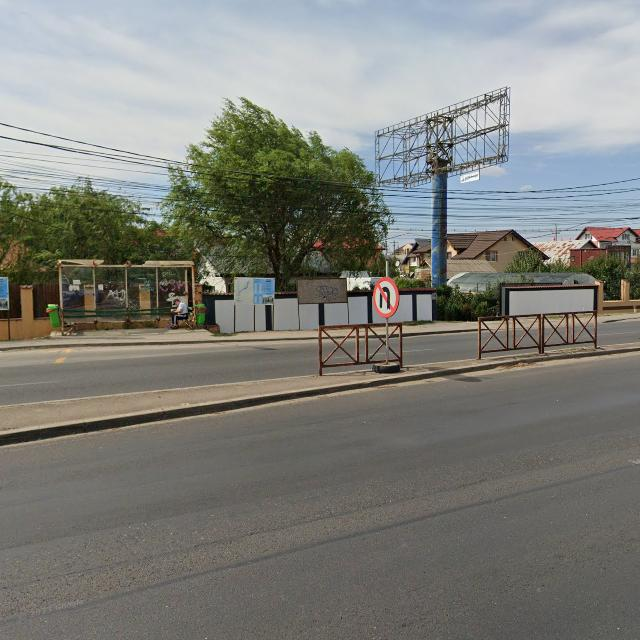forb_u_turn: (372, 277, 399, 318)
